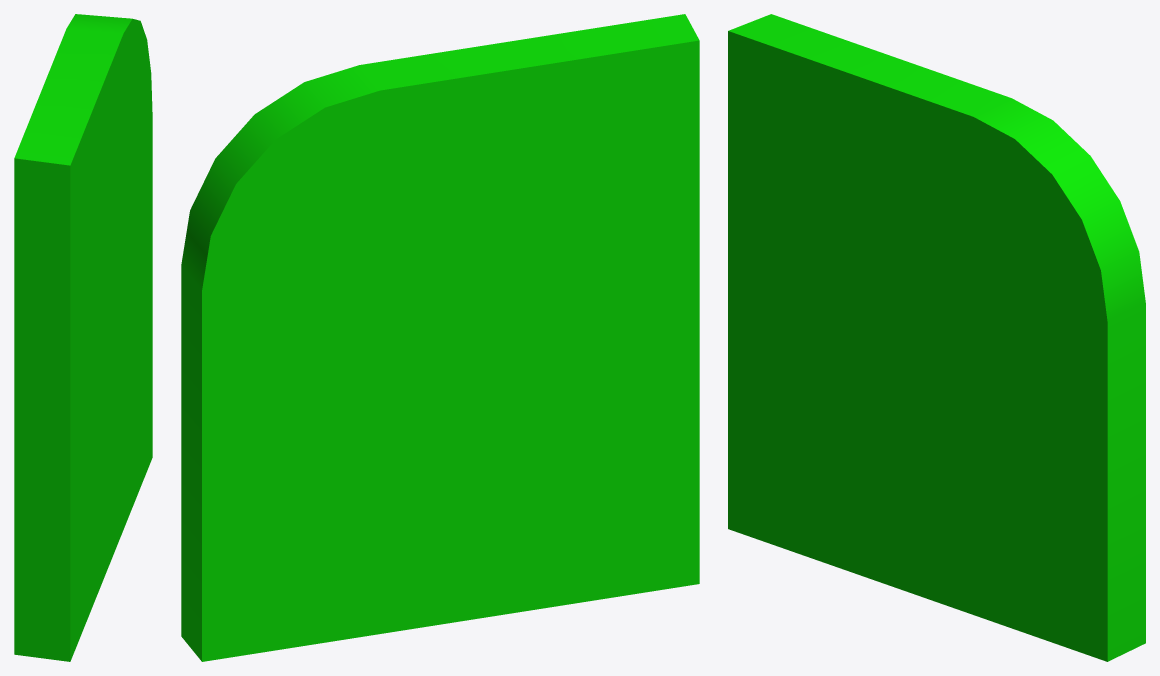
Rendered from sm_castle_044.fbx.
3 views of the same model, side by side, from view 1: azimuth 30°, elevation 25°; view 2: azimuth 150°, elevation 25°; view 3: azimuth 270°, elevation 25° (orthographic). The views are drawn at different scales.
Visible parts, largest first — view 1: sm_castle.044; view 2: sm_castle.044; view 3: sm_castle.044.
Part boxes in pixels (x1,y1,x2,y2): sm_castle.044: [14, 14, 152, 661]; sm_castle.044: [181, 14, 699, 661]; sm_castle.044: [728, 14, 1145, 661].
Size of the model in its own units: 364 by 565 by 429.
